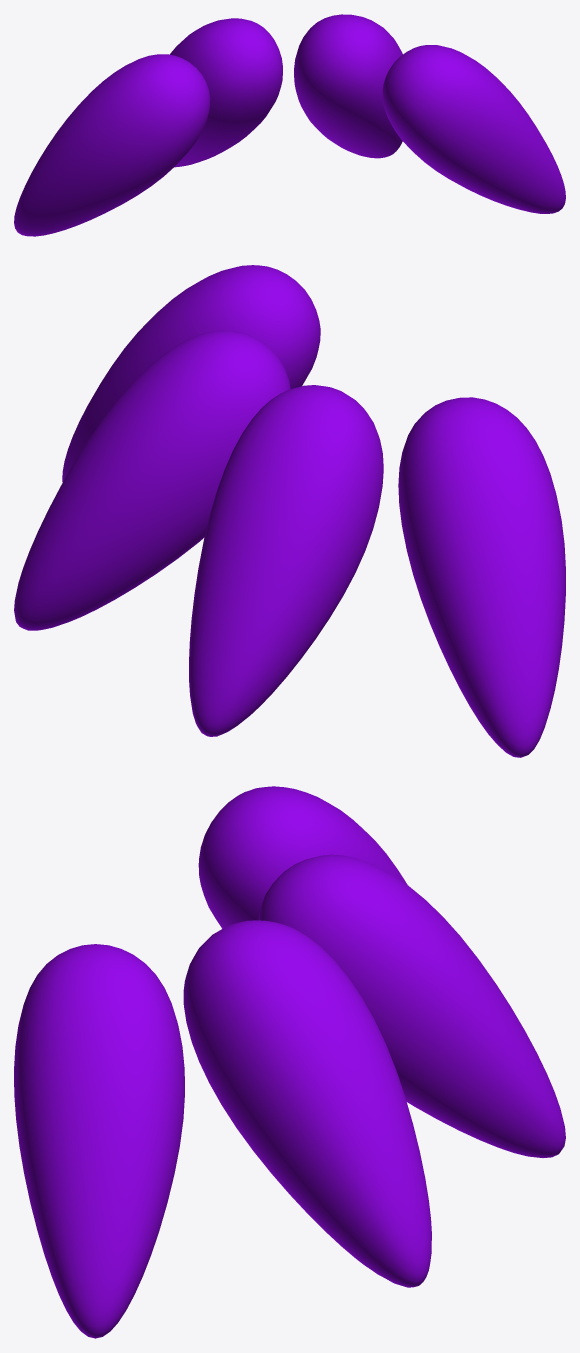
File: 2legstest.fbx
The picture shows the model from 3 angles, top to bottom: view 1: azimuth 30°, elevation 25°; view 2: azimuth 150°, elevation 25°; view 3: azimuth 270°, elevation 25°; orthographic projection. The views are drawn at different scales.
Parts seen in each view (by area): view 1: Cube; view 2: Cube; view 3: Cube.
Part boxes in pixels (left/top/right/bottom): Cube: left=14, top=14, right=565, bottom=236; Cube: left=14, top=265, right=565, bottom=757; Cube: left=14, top=786, right=565, bottom=1338.
Size of the model in its own units: 177 by 73.35 by 125.
